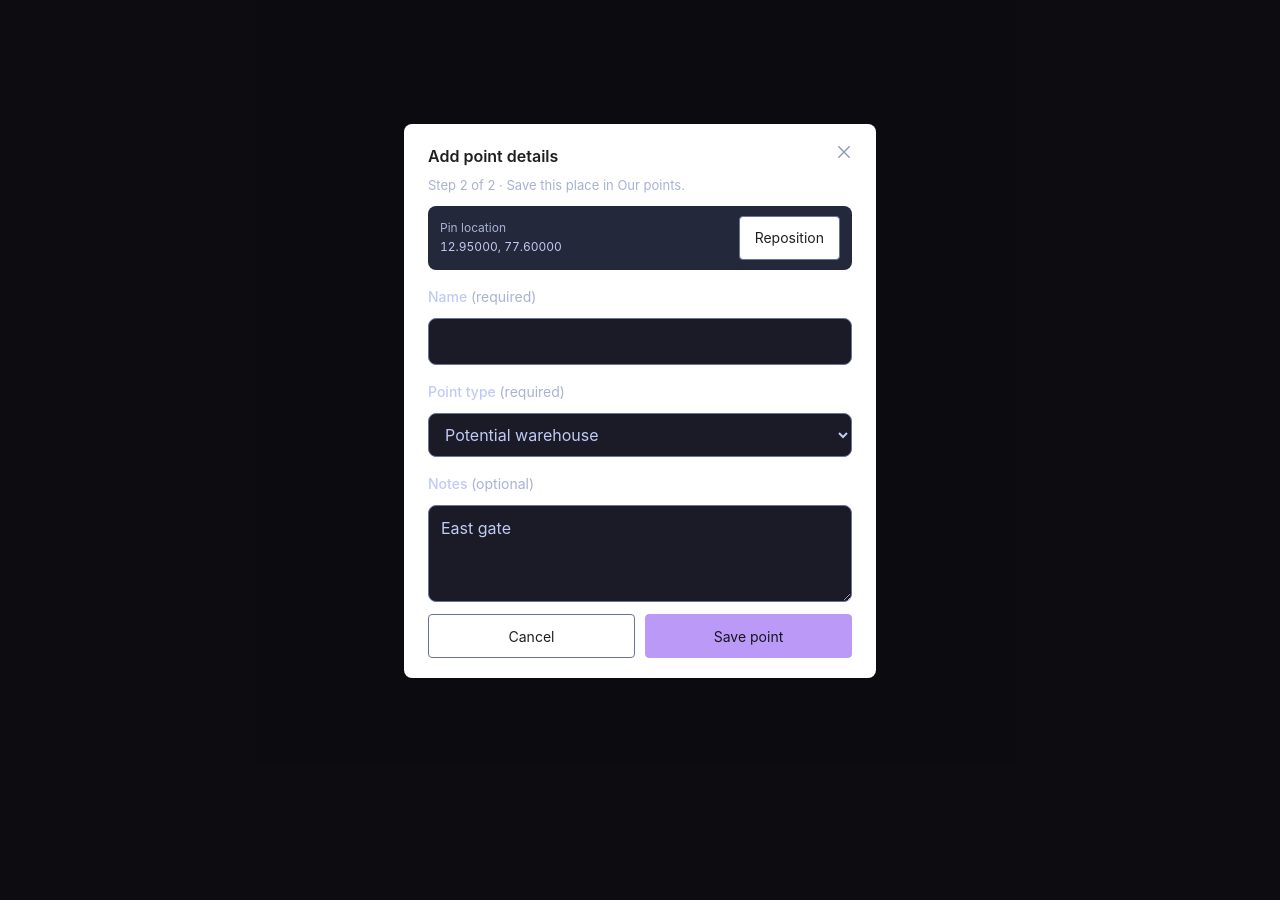
GIS point editor › rejects whitespace-only names without sending a request
Click the button "Save point" at (748, 636), box [645, 614, 852, 658]
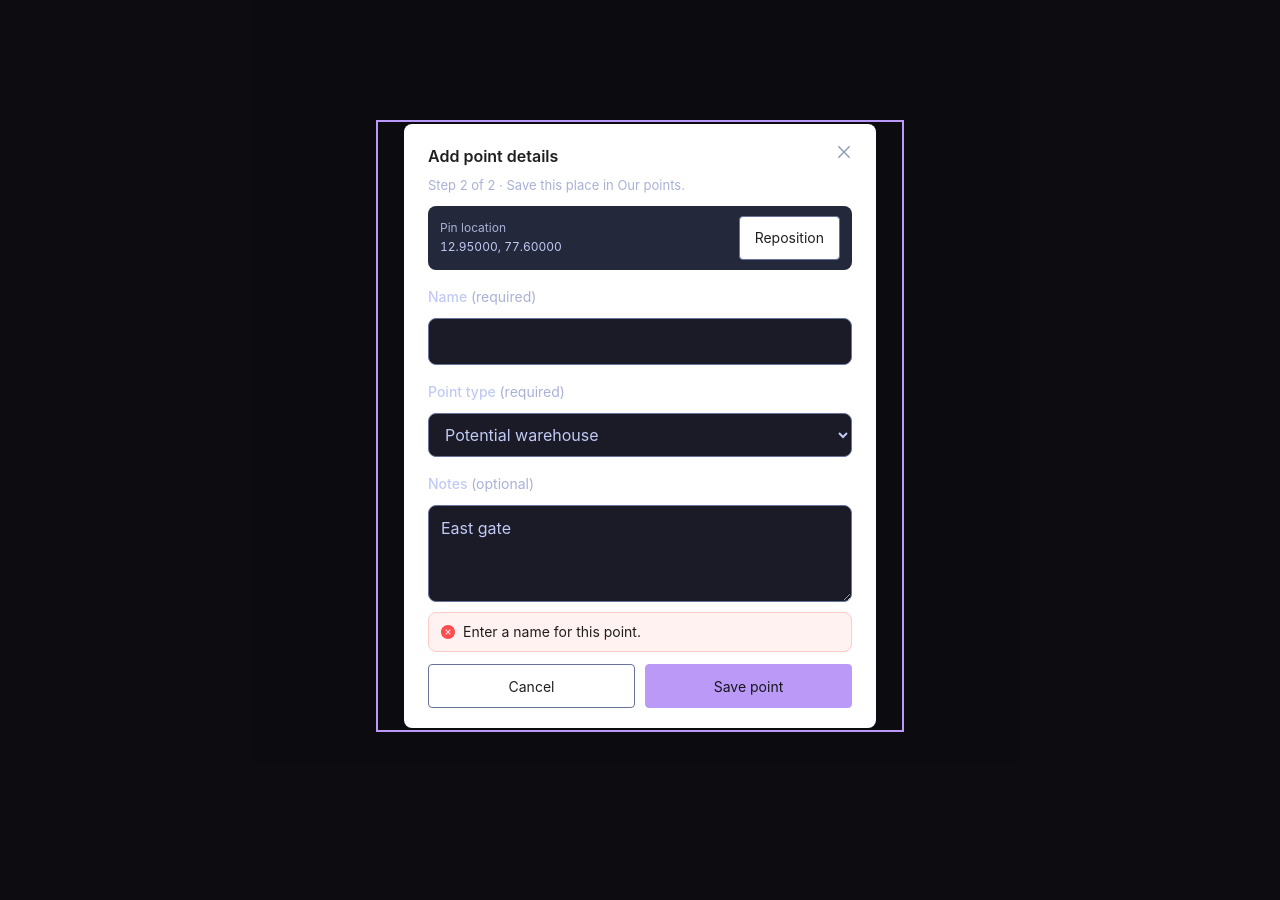
Result: the text "Enter a name for this point." is shown at [463, 623, 641, 640]
